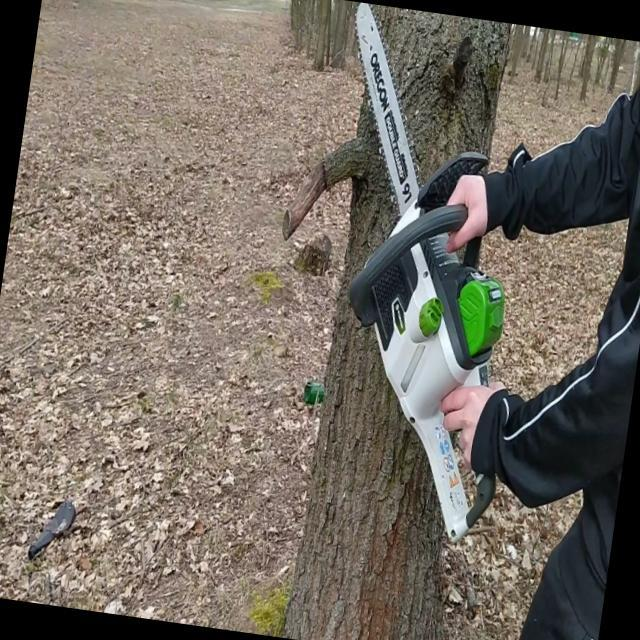Chainsaw: (278, 1, 568, 552)
